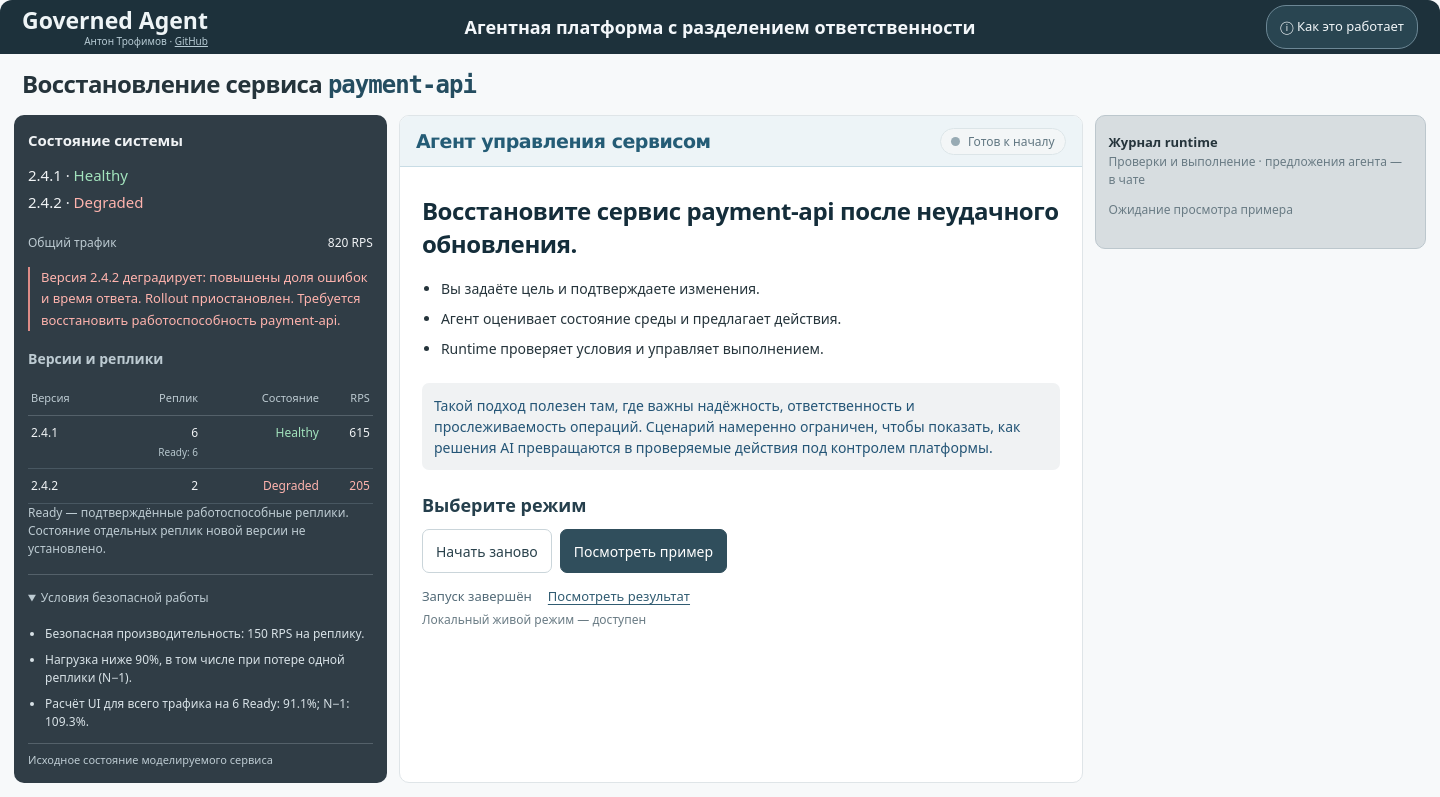
Test: starts again directly from the central chooser after a terminal run
Expected: the element named "Начать заново" is shown, x1=400 y1=167 x2=1082 y2=669
Click the button "Начать заново" at (487, 551), box x1=422 y1=529 x2=552 y2=573
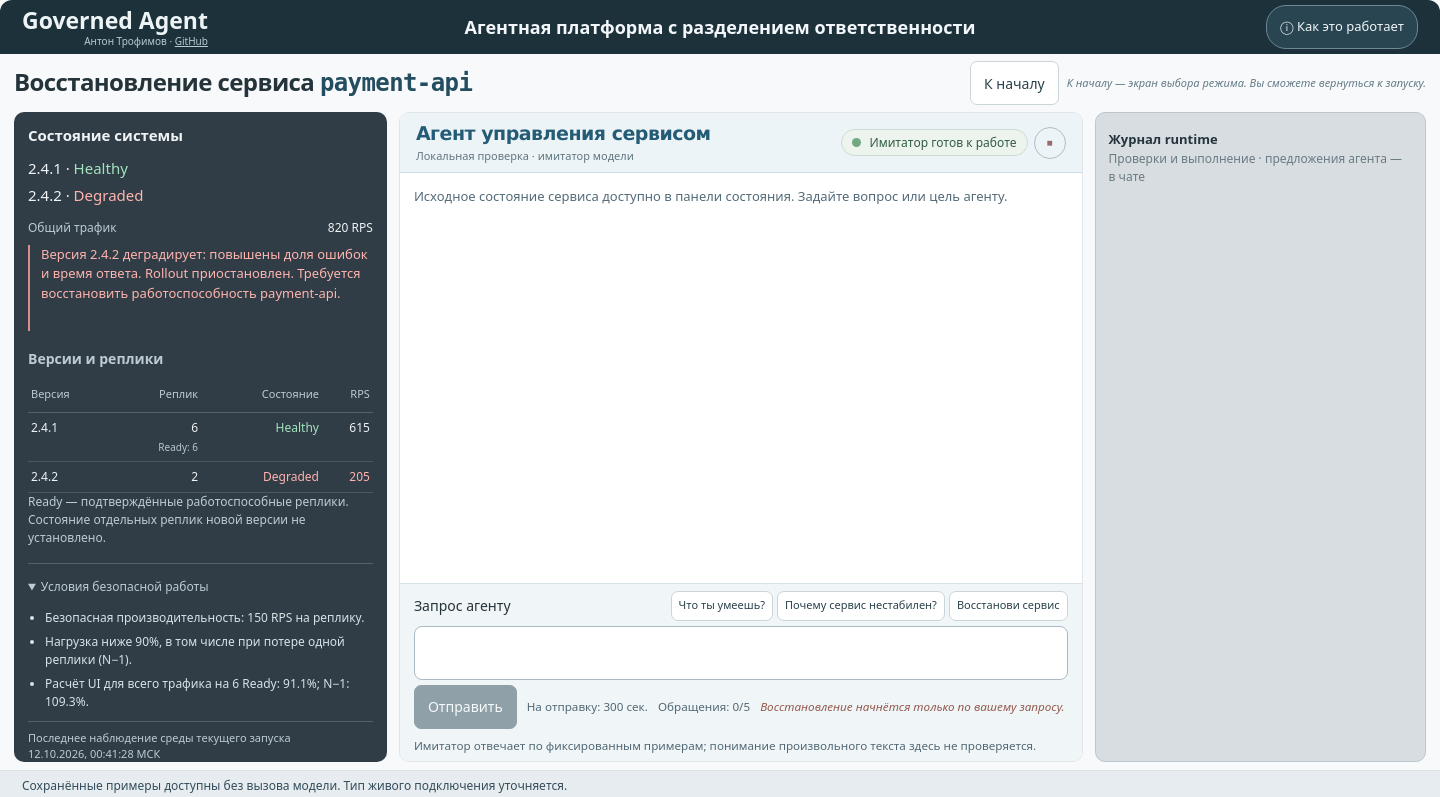
Result: the text box labelled "Запрос агенту" is shown at x1=414 y1=626 x2=1068 y2=680
